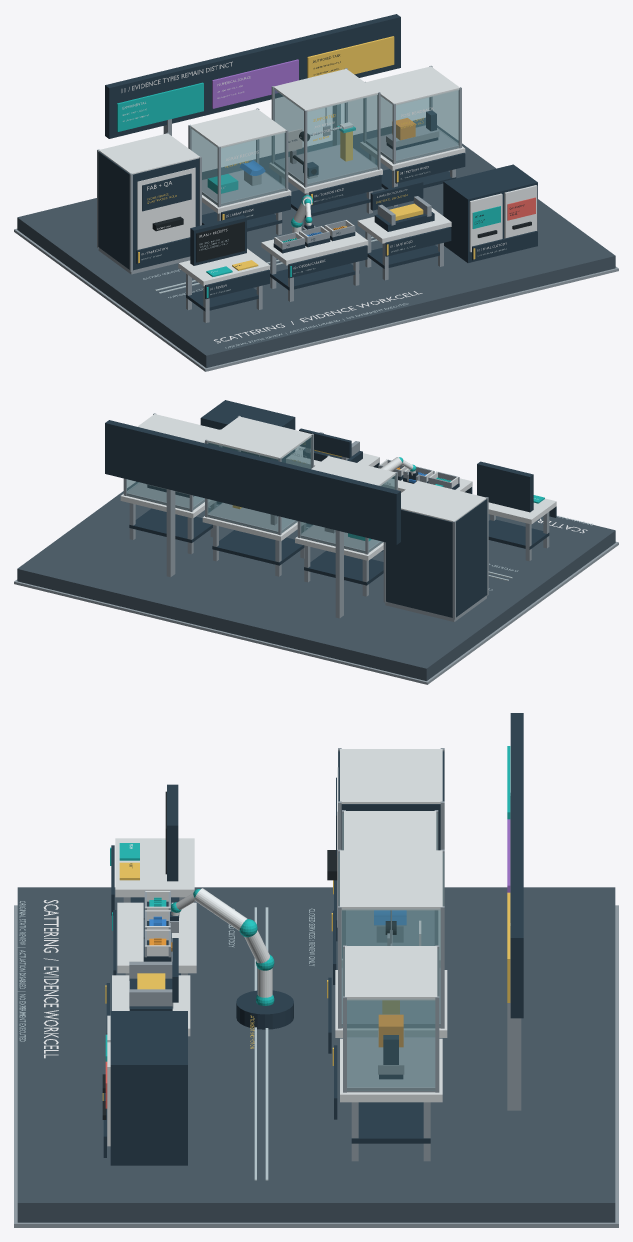
Rendered from scattering_review_scene.glb.
3 renders of one model, top to bottom at view 1: azimuth 30°, elevation 25°; view 2: azimuth 150°, elevation 25°; view 3: azimuth 270°, elevation 25°, orthographic. The views are drawn at different scales.
Parts seen in each view (by area): view 1: Foundation, Evidence panel, Pendulum shield_front, Array enclosure_front, Custody cabinet body, Motion boundary_front, Fabrication service_left, Perimeter trim, Pendulum shield_roof, EXPERIMENTAL_tile, Fabrication closed door, NUMERICAL SOURCE_tile (+47 smaller); view 2: Foundation, Evidence panel, Fabrication service_rear, Fabrication service_left, Perimeter trim, Pendulum shield_roof, Fabrication service_roof, Review display, Metrology table_lower, Custody cabinet body, Pendulum shield_rear, Motion table_lower (+19 smaller); view 3: Foundation, Custody cabinet body, Motion boundary_right, Pendulum shield_roof, Perimeter trim, Fabrication service_roof, Motion boundary_roof, Evidence panel, Motion boundary_base, Pendulum shield_right, Array enclosure_roof, Review console_top (+17 smaller).
Boxes of the visible parts, x1=… form: Foundation: x1=17, y1=118, x2=615, y2=367; Evidence panel: x1=105, y1=14, x2=400, y2=138; Pendulum shield_front: x1=307, y1=94, x2=377, y2=185; Array enclosure_front: x1=221, y1=132, x2=285, y2=205; Custody cabinet body: x1=443, y1=164, x2=537, y2=262; Motion boundary_front: x1=396, y1=90, x2=458, y2=162; Fabrication service_left: x1=98, y1=151, x2=129, y2=269; Perimeter trim: x1=14, y1=228, x2=618, y2=371; Pendulum shield_roof: x1=273, y1=69, x2=378, y2=111; EXPERIMENTAL_tile: x1=117, y1=82, x2=203, y2=131; Fabrication closed door: x1=137, y1=167, x2=195, y2=249; NUMERICAL SOURCE_tile: x1=212, y1=59, x2=298, y2=108; Foundation: x1=17, y1=482, x2=615, y2=680; Evidence panel: x1=105, y1=420, x2=400, y2=544; Fabrication service_rear: x1=386, y1=509, x2=452, y2=617; Fabrication service_left: x1=456, y1=499, x2=487, y2=617; Perimeter trim: x1=14, y1=541, x2=618, y2=684; Pendulum shield_roof: x1=207, y1=416, x2=311, y2=459; Fabrication service_roof: x1=401, y1=481, x2=486, y2=521; Review display: x1=477, y1=461, x2=533, y2=512; Metrology table_lower: x1=212, y1=530, x2=304, y2=565; Custody cabinet body: x1=200, y1=400, x2=295, y2=462; Pendulum shield_rear: x1=208, y1=442, x2=277, y2=533; Motion table_lower: x1=129, y1=508, x2=212, y2=542; Foundation: x1=17, y1=887, x2=615, y2=1222; Custody cabinet body: x1=110, y1=1011, x2=187, y2=1165; Motion boundary_right: x1=347, y1=999, x2=434, y2=1090; Pendulum shield_roof: x1=340, y1=850, x2=442, y2=910; Perimeter trim: x1=14, y1=905, x2=618, y2=1227; Fabrication service_roof: x1=340, y1=749, x2=442, y2=803; Motion boundary_roof: x1=345, y1=946, x2=437, y2=1000; Evidence panel: x1=510, y1=713, x2=523, y2=1018; Motion boundary_base: x1=347, y1=1037, x2=435, y2=1092; Pendulum shield_right: x1=342, y1=909, x2=440, y2=1026; Array enclosure_roof: x1=344, y1=811, x2=436, y2=850; Review console_top: x1=115, y1=838, x2=194, y2=897.
Bounding box in the file's own units: 8.08 × 2.87 × 6.48.
